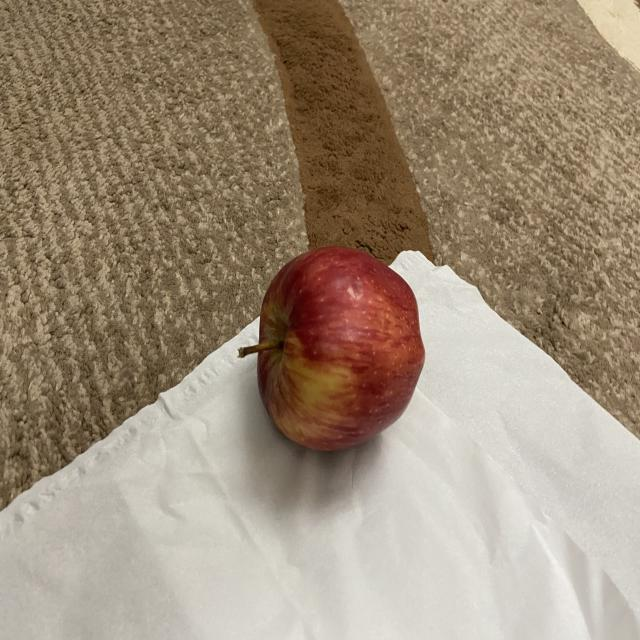apple: (234, 245, 427, 455)
